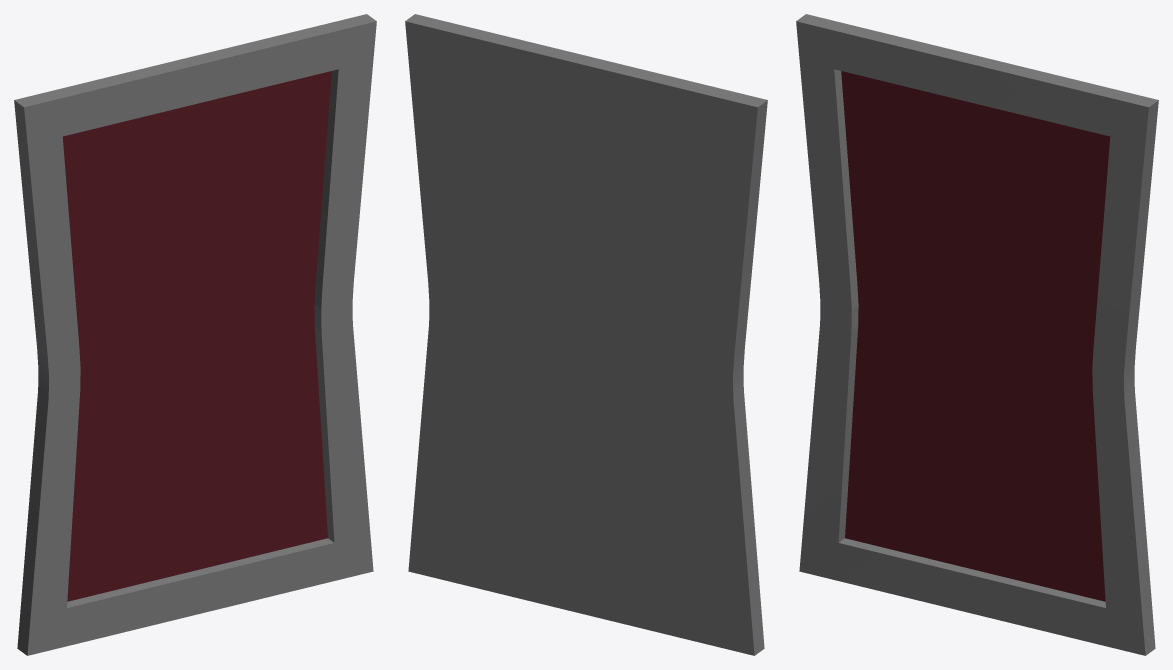
The model's file is SM_CadrePhoto02_low.fbx.
The picture shows the model from 3 angles, left to right: view 1: azimuth 30°, elevation 25°; view 2: azimuth 150°, elevation 25°; view 3: azimuth 330°, elevation 25°; orthographic projection.
Visible parts, largest first — view 1: SM_CadrePhoto02_low; view 2: SM_CadrePhoto02_low; view 3: SM_CadrePhoto02_low.
Part boxes in pixels (left/top/right/bottom): SM_CadrePhoto02_low: left=14, top=14, right=376, bottom=655; SM_CadrePhoto02_low: left=405, top=14, right=767, bottom=655; SM_CadrePhoto02_low: left=796, top=14, right=1158, bottom=655.
Size of the model in its own units: 145 by 216 by 7.65.
